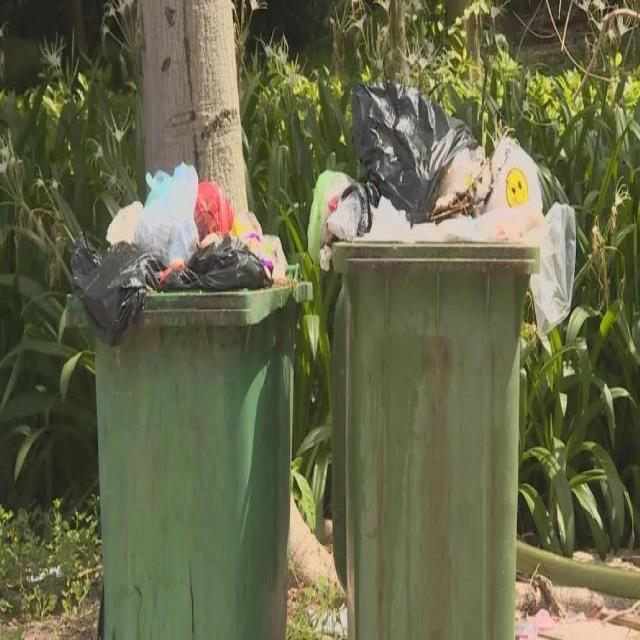overflow: (306, 81, 575, 638), (70, 162, 313, 638)
